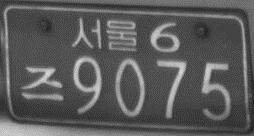0: (113, 58, 148, 119)
5: (200, 61, 232, 122)
6: (148, 19, 182, 55)
7: (153, 58, 190, 120)
9: (71, 55, 103, 115)
서울_O: (70, 14, 139, 54)
즈: (21, 64, 65, 102)
